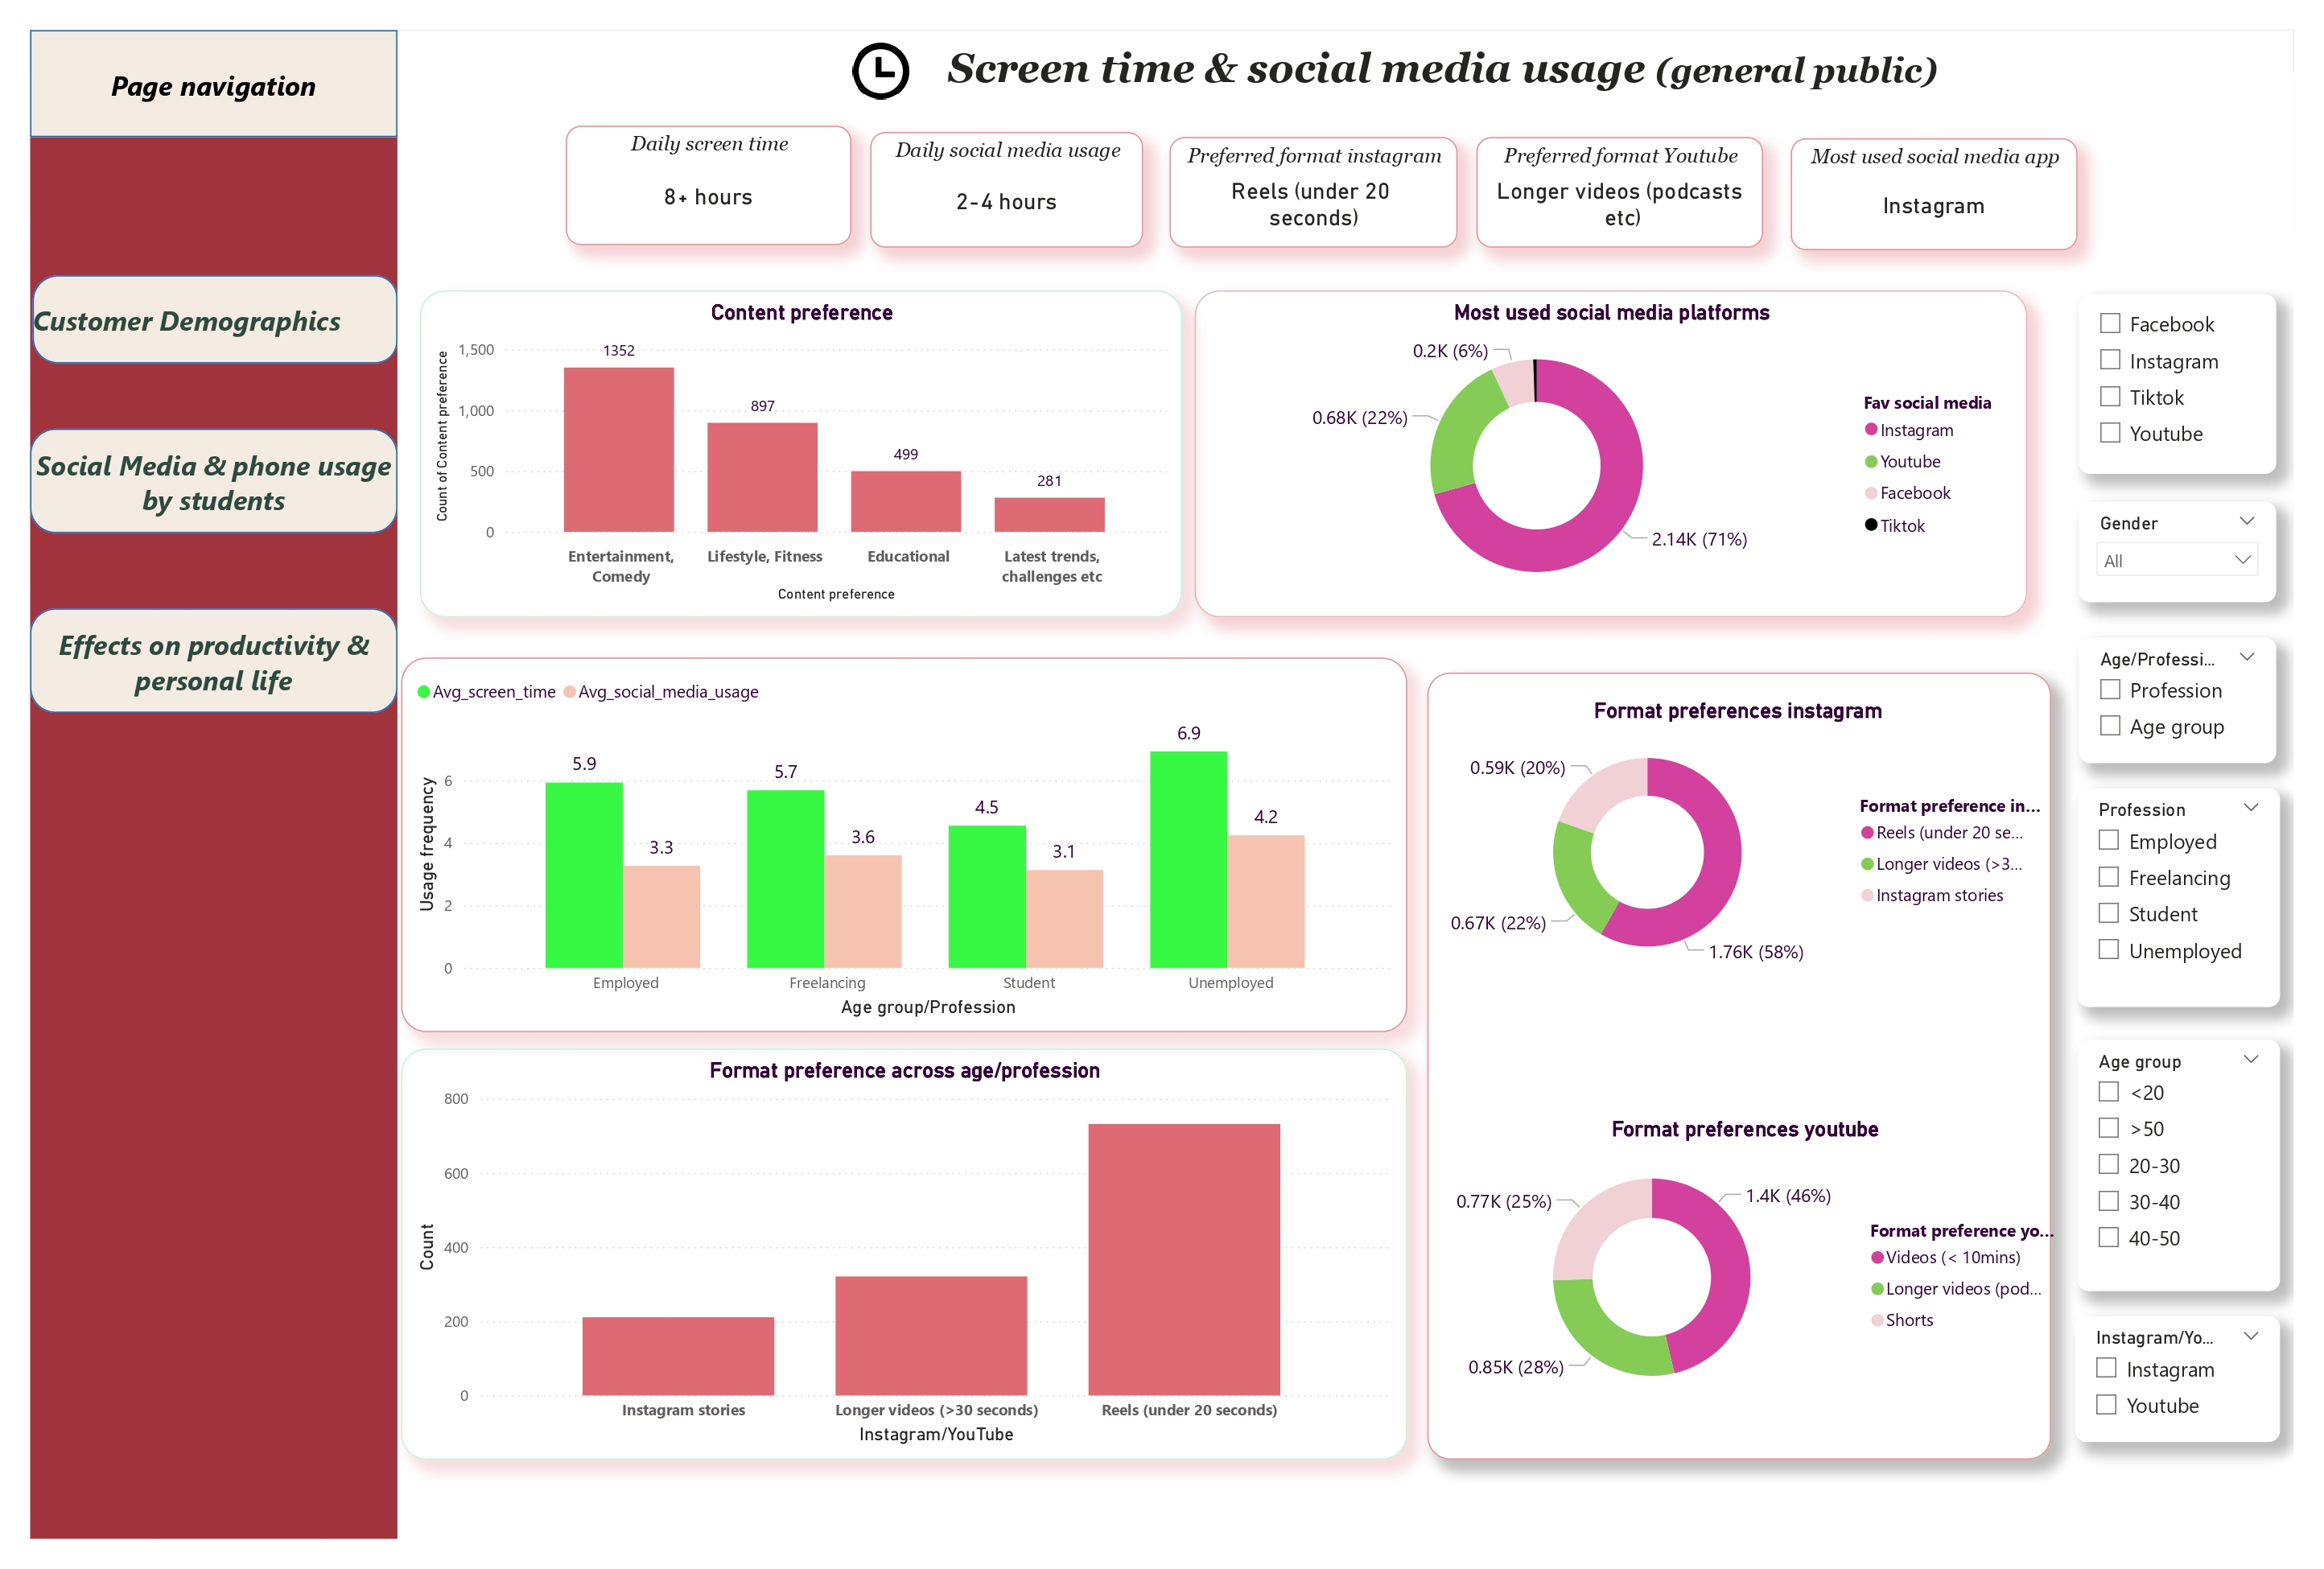

This screenshot's page, from the dashboard's own definition file:
{"tool":"powerbi","page":{"name":"Screen time & social media usage","canvas":[1800,1200],"ordinal":1},"visuals":[{"type":"clusteredColumnChart","title":"Screen time vs Social media usage across age groups","fields":{"Category":["final_survey.Profession","final_survey.Age group"],"Y":["final_survey.Avg_screen_time","final_survey.Avg_social_media_usage"]},"box":[294.7,499,800,298.3],"z":0},{"type":"donutChart","title":"Most used social media platforms","fields":{"Category":["final_survey.Fav social media"],"Y":["CountNonNull(final_survey.Fav social media)"]},"box":[926.3,207.3,661.7,260],"z":1000},{"type":"textbox","box":[1110.7,510.7,496.7,626.7],"z":2000},{"type":"donutChart","title":"Format preferences instagram","fields":{"Category":["final_survey.Format preference instagram"],"Y":["CountNonNull(final_survey.Format preference instagram)"]},"box":[1112,531,493.3,226.7],"z":3000},{"type":"donutChart","title":"Format preferences youtube","fields":{"Category":["final_survey.Format preference youtube"],"Y":["CountNonNull(final_survey.Format preference youtube)"]},"box":[1110.7,864,506.7,236.7],"z":4000},{"type":"clusteredColumnChart","title":"Content preference","fields":{"Category":["final_survey.Content preference"],"Y":["CountNonNull(final_survey.Content preference)"]},"box":[309.7,207.3,606.7,260],"z":5000},{"type":"textbox","box":[725.3,7.3,831.7,55],"z":6000},{"type":"image","box":[626,5,100,55],"z":7000},{"type":"slicer","fields":{"Values":["final_survey.Gender"]},"box":[1629.3,375,156.7,80],"z":8000},{"type":"slicer","fields":{"Values":["final_survey.Fav social media"]},"box":[1629.3,210,156.7,143.3],"z":9000},{"type":"slicer","fields":{"Values":["final_survey.Profession"]},"box":[1627.7,603.3,161.7,173.3],"z":10000},{"type":"slicer","fields":{"Values":["final_survey.Age group"]},"box":[1627.7,803.3,161.7,200],"z":11000},{"type":"slicer","fields":{"Values":["Age/Profession.Age/Profession"]},"box":[1629.3,483.3,156.7,100],"z":12000},{"type":"lineStackedColumnComboChart","title":"Format preference across age/profession","fields":{"Category":["final_survey.Format preference instagram","final_survey.Format preference youtube"],"Y":["Count(final_survey.Index)"]},"box":[295,810,800,326.7],"z":13000},{"type":"slicer","fields":{"Values":["Instagram/Youtube.Instagram/Youtube"]},"box":[1626,1023.3,163.3,100],"z":14000},{"type":"textbox","box":[0,0,291.7,1300],"z":15000},{"type":"shape","box":[0,0,291.7,85],"z":16000},{"type":"shape","box":[1.7,195,290,70],"z":17000},{"type":"shape","box":[0,316.7,291.7,83.3],"z":18000},{"type":"shape","box":[0,460,291.7,83.3],"z":19000},{"type":"card","title":"Preferred format instagram","fields":{"Values":["final_survey.Most_prefered_content_format"]},"box":[906.3,84.7,228.3,88.3],"z":21000},{"type":"card","title":"Preferred format Youtube","fields":{"Values":["Min(final_survey.Format preference youtube)"]},"box":[1149.7,84.7,228.3,88.3],"z":22000},{"type":"card","title":"Most used social media app","fields":{"Values":["final_survey.fav social media app"]},"box":[1399.7,86.3,228.3,88.3],"z":23000},{"type":"card","title":"Daily screen time","fields":{"Values":["final_survey.Screen time mode"]},"box":[426.3,76.3,226.7,95],"z":24000},{"type":"card","title":"Daily social media usage","fields":{"Values":["final_survey.Social media mode"]},"box":[668,81.3,216.7,91.7],"z":25000}]}

Visuals, with their boxes in screenshot pixels (x1, y1, x2, y2):
"Screen time vs Social media usage across age groups" clusteredColumnChart: box=[401, 657, 1407, 1032]
"Most used social media platforms" donutChart: box=[1195, 290, 2027, 618]
textbox: box=[1427, 672, 2052, 1460]
"Format preferences instagram" donutChart: box=[1428, 698, 2049, 982]
"Format preferences youtube" donutChart: box=[1427, 1117, 2064, 1414]
"Content preference" clusteredColumnChart: box=[419, 290, 1183, 618]
textbox: box=[942, 39, 1988, 109]
image: box=[818, 36, 943, 105]
slicer - final_survey.Gender: box=[2079, 501, 2277, 602]
slicer - final_survey.Fav social media: box=[2079, 294, 2277, 475]
slicer - final_survey.Profession: box=[2077, 789, 2281, 1007]
slicer - final_survey.Age group: box=[2077, 1040, 2281, 1291]
slicer - Age/Profession.Age/Profession: box=[2079, 638, 2277, 764]
"Format preference across age/profession" lineStackedColumnComboChart: box=[402, 1048, 1407, 1460]
slicer - Instagram/Youtube.Instagram/Youtube: box=[2075, 1316, 2281, 1443]
textbox: box=[31, 31, 397, 1538]
shape: box=[31, 31, 397, 137]
shape: box=[32, 275, 397, 364]
shape: box=[31, 428, 397, 533]
shape: box=[31, 608, 397, 713]
"Preferred format instagram" card: box=[1170, 137, 1457, 248]
"Preferred format Youtube" card: box=[1476, 137, 1763, 248]
"Most used social media app" card: box=[1790, 138, 2078, 249]
"Daily screen time" card: box=[567, 126, 851, 245]
"Daily social media usage" card: box=[870, 133, 1143, 248]
